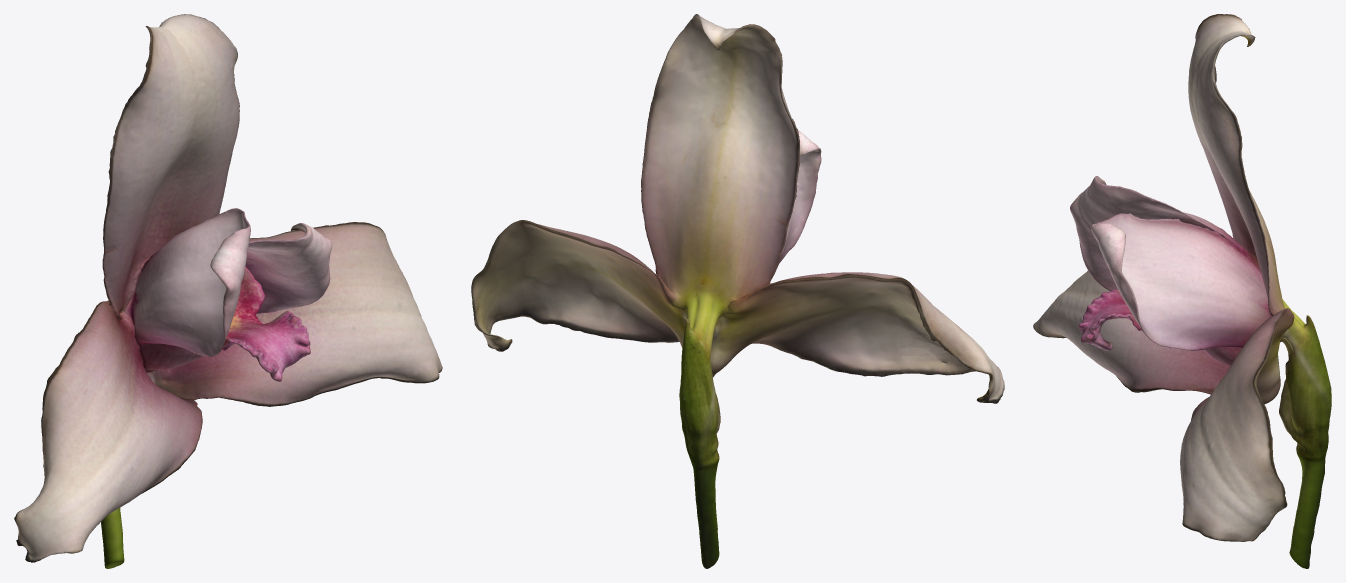
Rendered from lycaste.glb.
3 renders of one model, left to right at view 1: azimuth 30°, elevation 25°; view 2: azimuth 150°, elevation 25°; view 3: azimuth 270°, elevation 25°, orthographic. The views are drawn at different scales.
Bounding box in the file's own units: 0.1115 × 0.1242 × 0.0608.
Materials: 1 (1 with a texture image).
